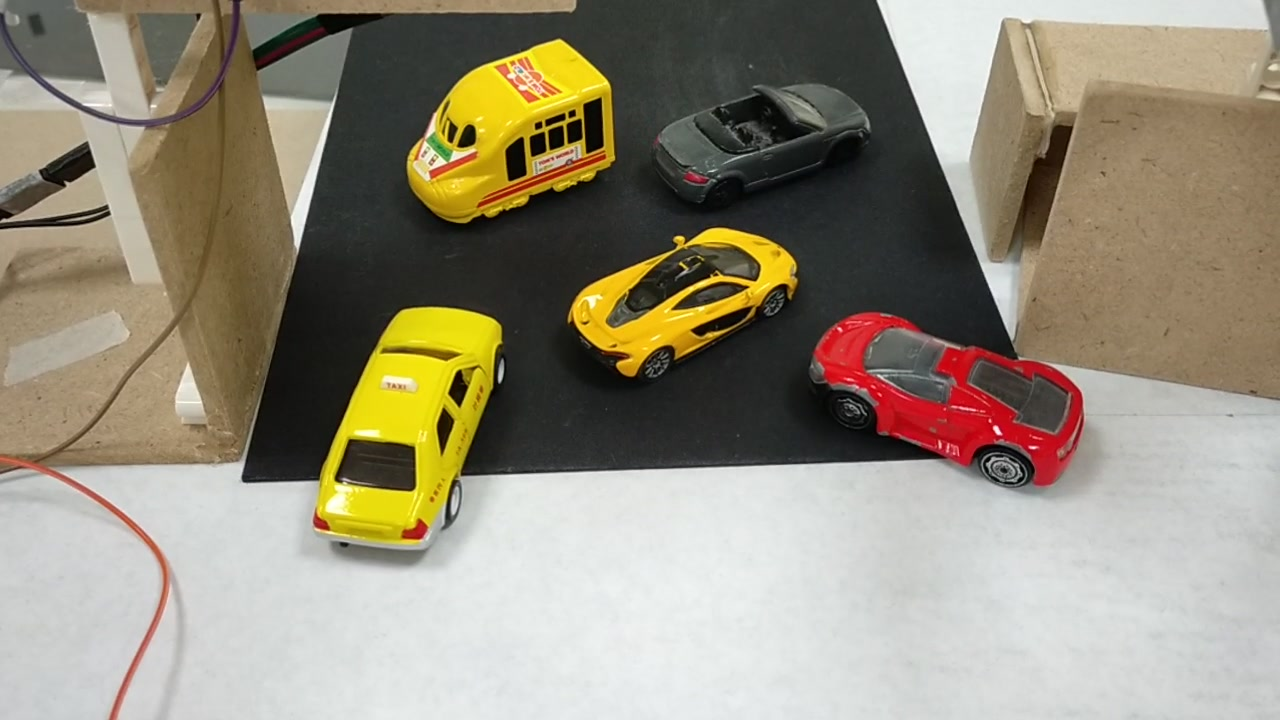car: (810, 306, 1081, 488), (308, 312, 509, 542), (559, 233, 807, 377), (656, 81, 868, 199)
